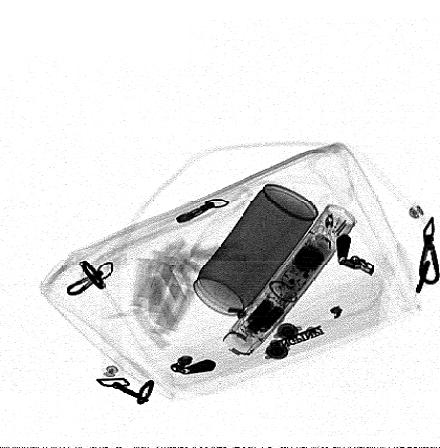Baton: (222, 203, 358, 357)
